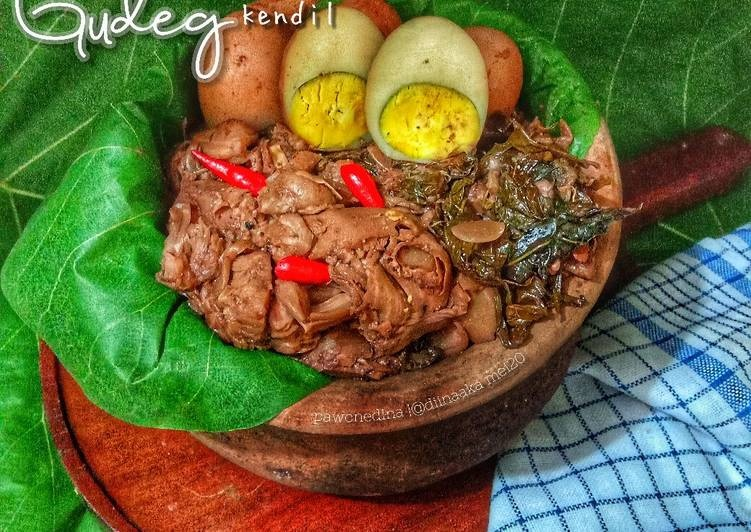gudeg: (155, 9, 586, 363)
